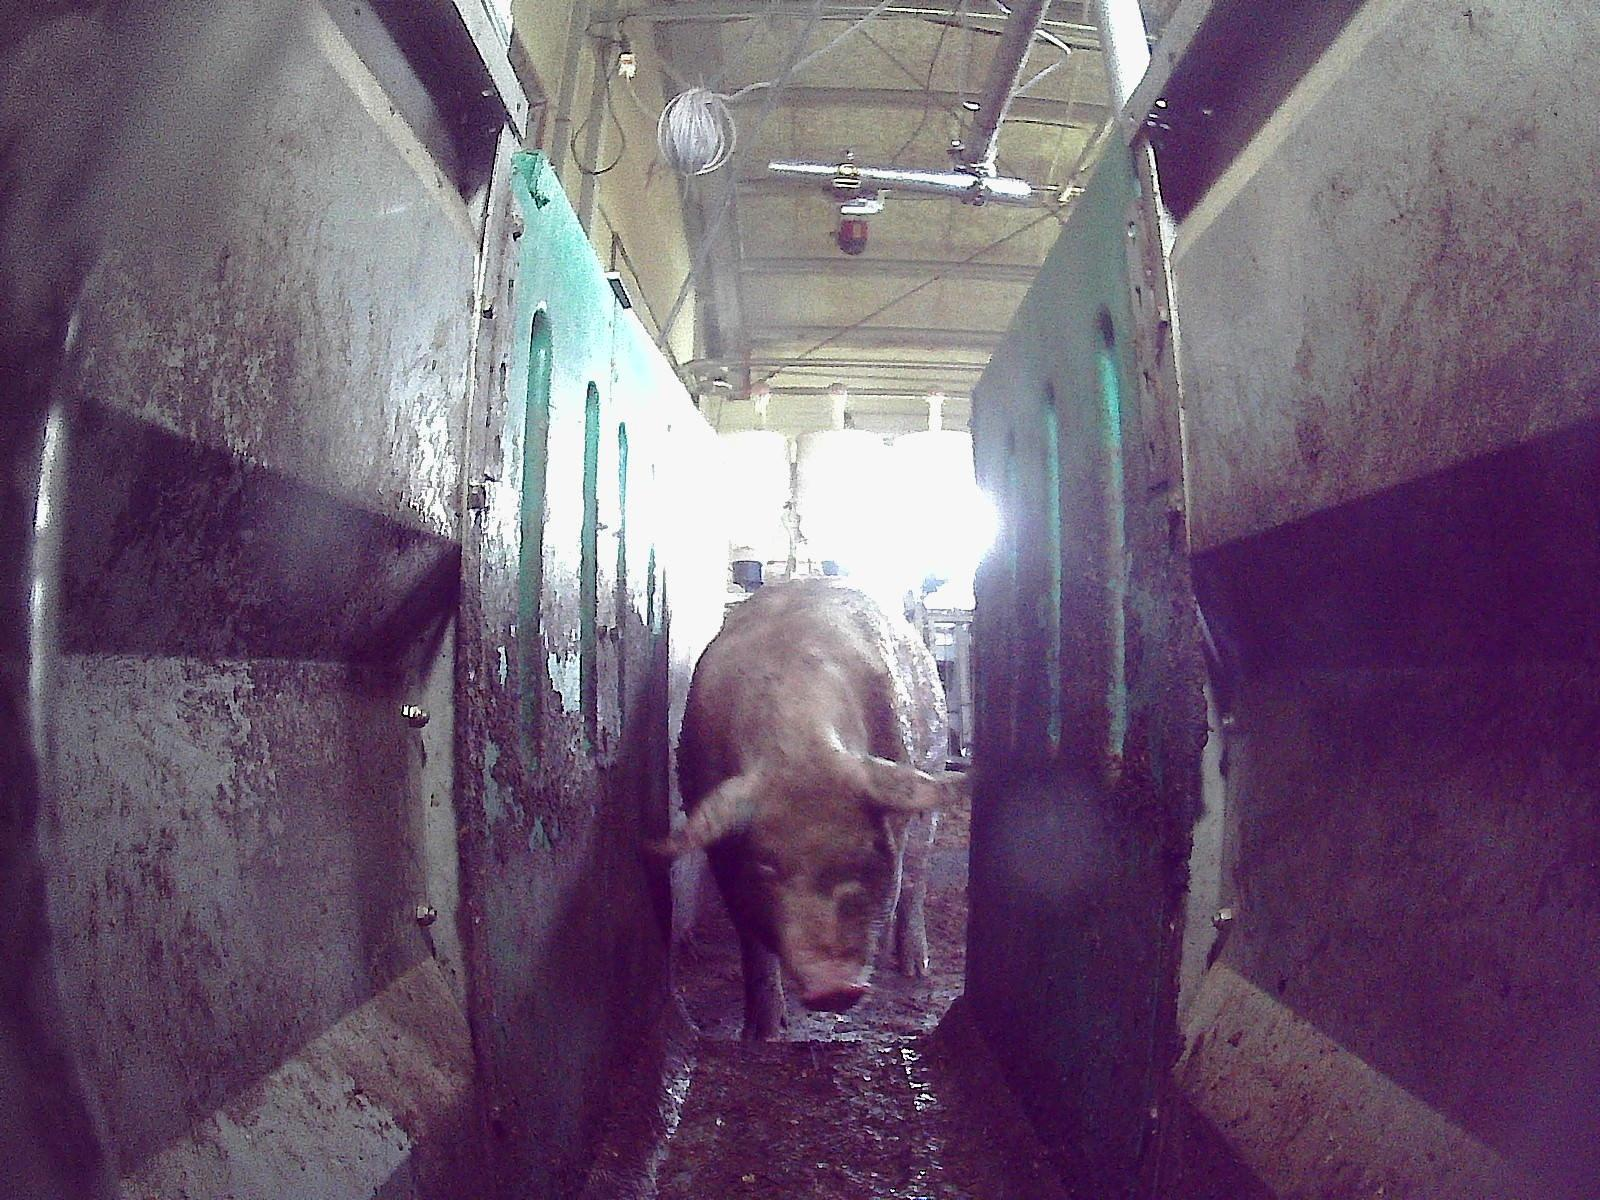Face: (715, 750, 906, 1014)
